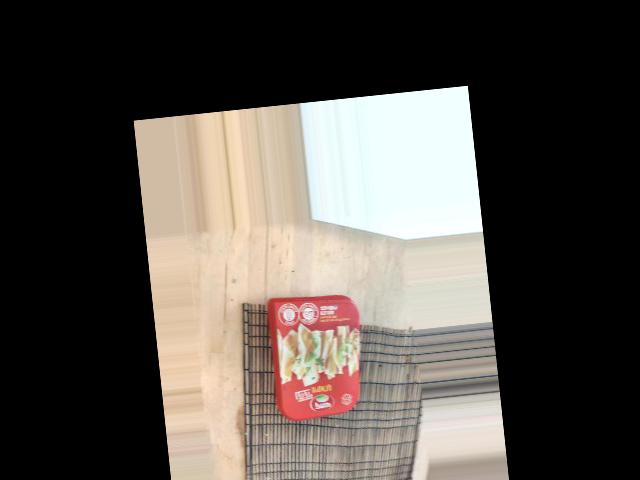cheese: (291, 351, 434, 451)
